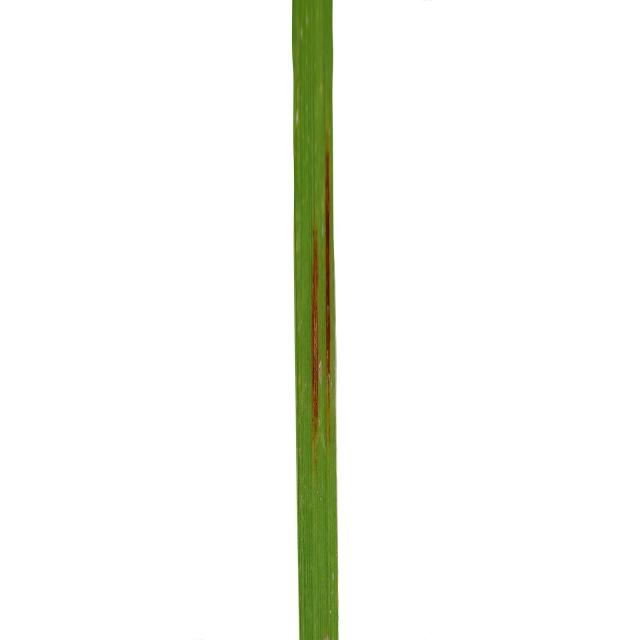Narrow brown: (201, 1, 413, 640)
